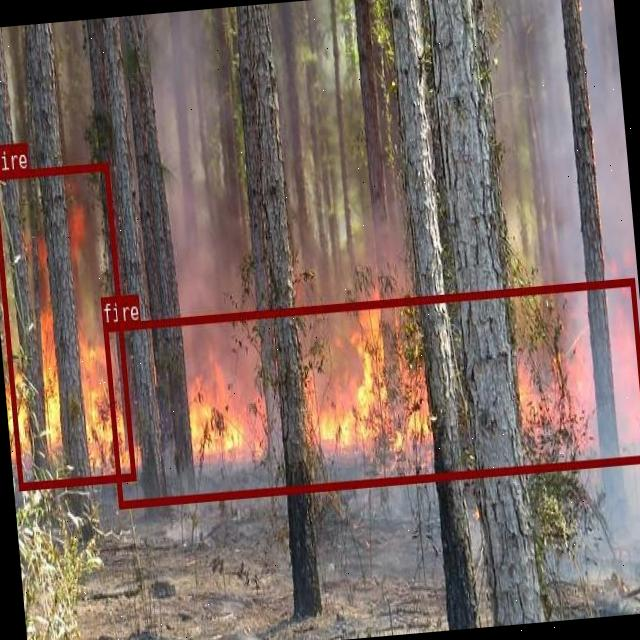fire: (102, 276, 640, 507), (0, 161, 134, 489)
